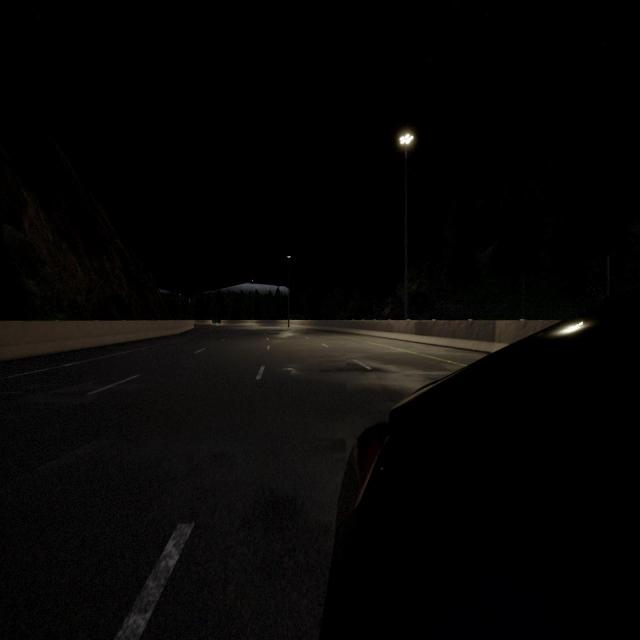Vehicle: (321, 286, 639, 637)
